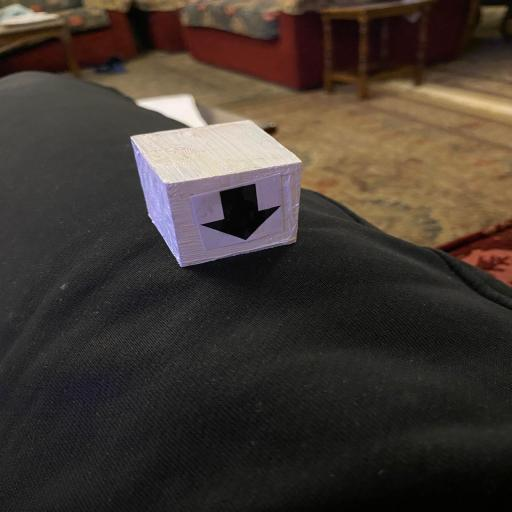Down: (129, 121, 307, 268)
